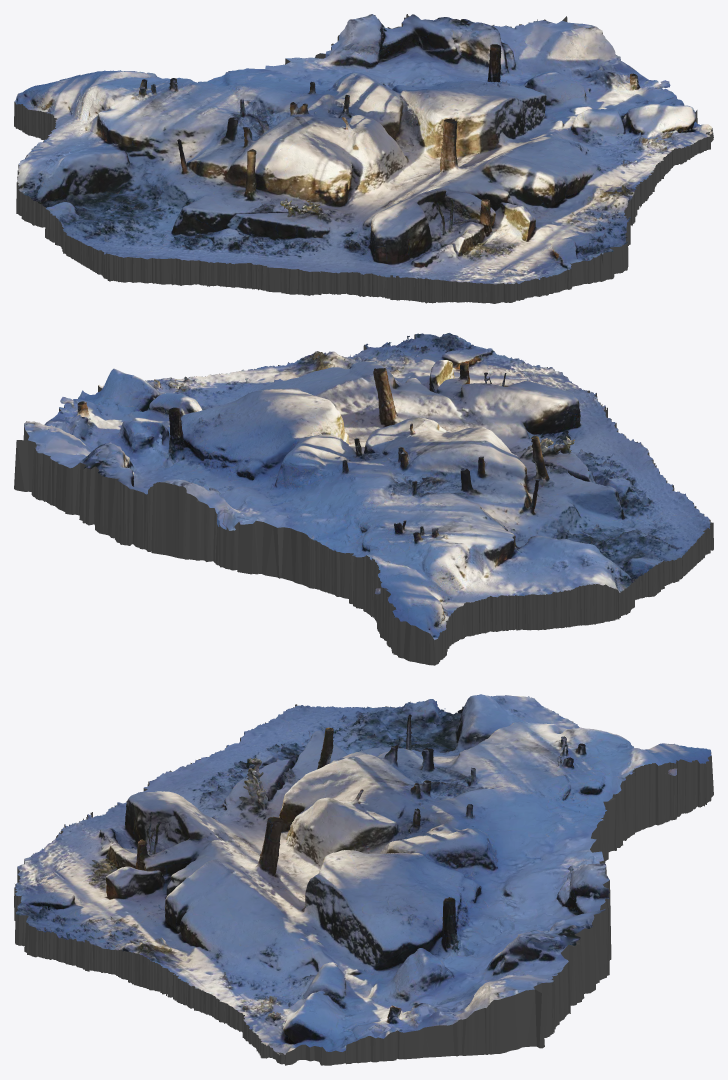
File: rocks_with_snow.glb
The picture shows the model from 3 angles, top to bottom: view 1: azimuth 30°, elevation 25°; view 2: azimuth 150°, elevation 25°; view 3: azimuth 270°, elevation 25°; orthographic projection. The views are drawn at different scales.
Parts seen in each view (by area): view 1: Object_4, Object_3; view 2: Object_4, Object_3; view 3: Object_4, Object_3.
Part boxes in pixels (bbox=[...]): Object_4: bbox=[14, 14, 712, 284]; Object_3: bbox=[14, 14, 713, 303]; Object_4: bbox=[24, 333, 710, 639]; Object_3: bbox=[14, 334, 713, 665]; Object_4: bbox=[14, 694, 711, 1054]; Object_3: bbox=[14, 701, 713, 1065].
Bounding box in the file's own units: 41.15 × 5.62 × 36.28.
Materials: 2 (1 with a texture image).
